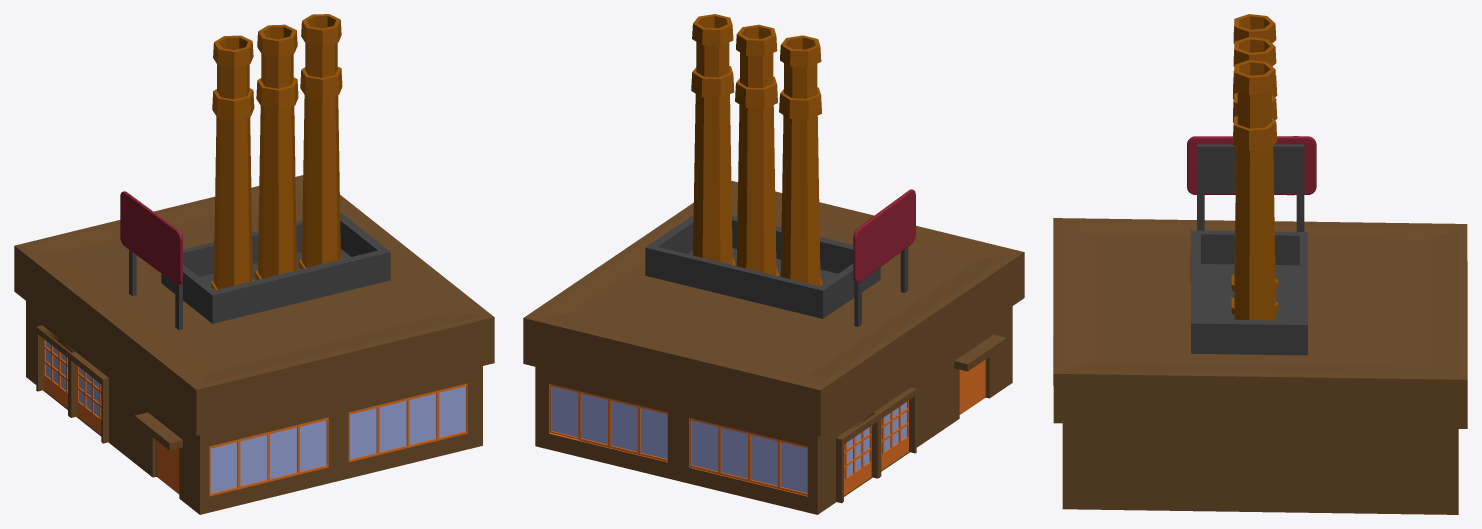
File: Usine Tel Niv1.fbx
3 views of the same model, side by side, from view 1: azimuth 30°, elevation 25°; view 2: azimuth 150°, elevation 25°; view 3: azimuth 270°, elevation 25° (orthographic). The views are drawn at different scales.
Parts seen in each view (by area): view 1: usine.022; view 2: usine.022; view 3: usine.022.
Part boxes in pixels (x1=…): usine.022: x1=14, y1=14, x2=494, y2=514; usine.022: x1=523, y1=14, x2=1024, y2=514; usine.022: x1=1053, y1=14, x2=1467, y2=514.
Size of the model in its own units: 760 by 869 by 811.
